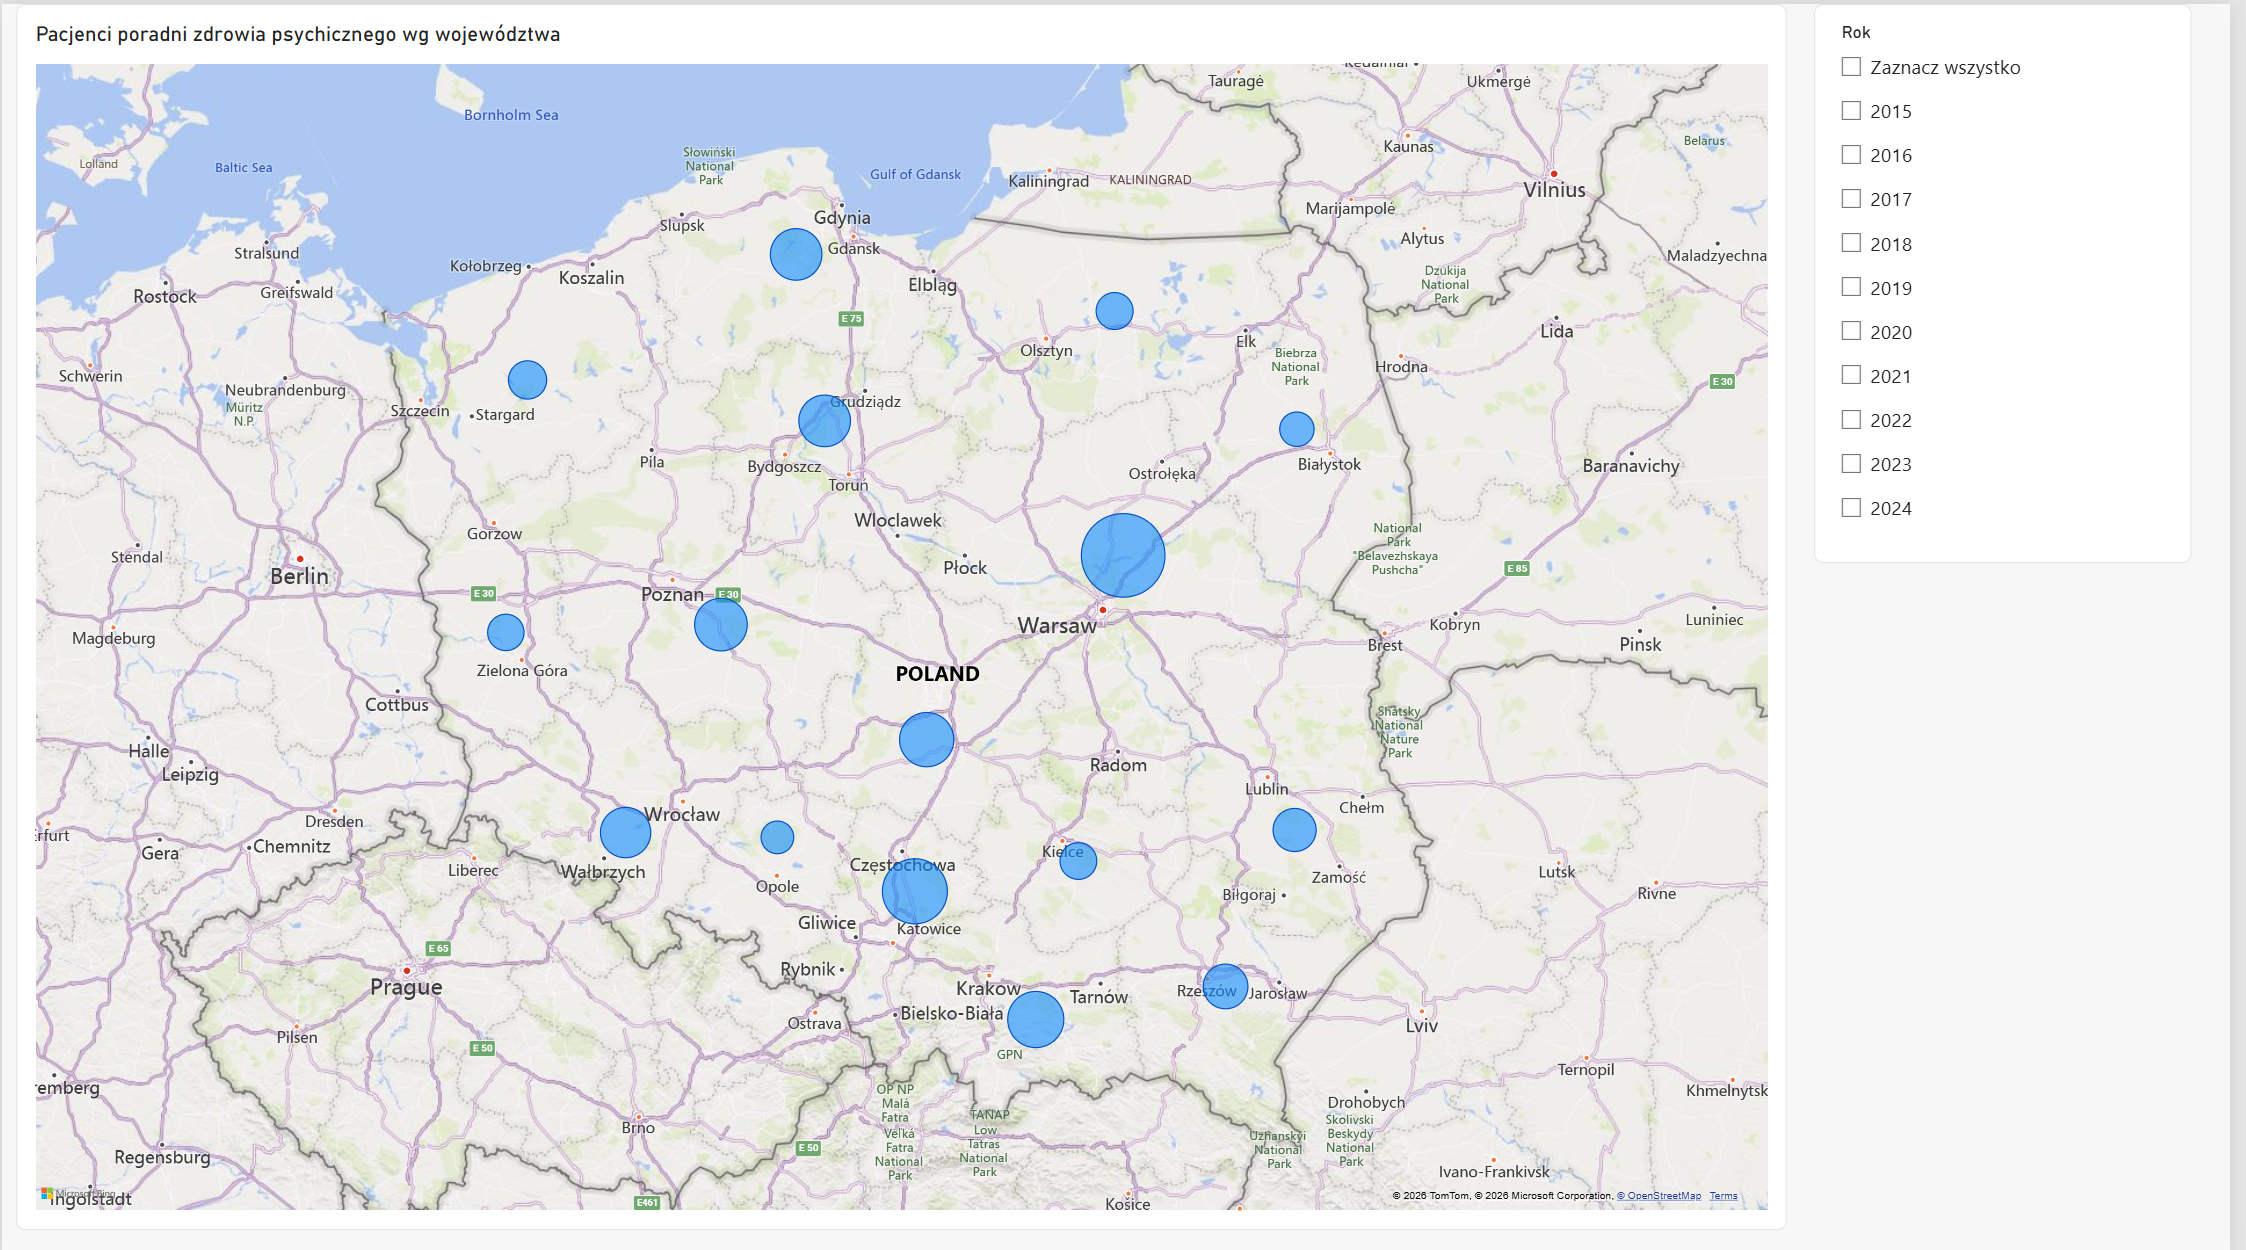

The page's visual inventory and layout, read from the dashboard file:
{"tool":"powerbi","page":{"name":"Mapa","canvas":[1920,1080],"ordinal":1},"visuals":[{"type":"map","title":"Pacjenci poradni zdrowia psychicznego wg województwa","fields":{"Category":["PacjenciPoradniZP.Województwo"],"Size":["Sum(PacjenciPoradniZP.Liczba leczonych)"]},"box":[12.4,0,1526.5,1056.8],"z":0},{"type":"slicer","fields":{"Values":["ZdrowiePsychiczne.Rok"]},"box":[1561.5,0,325.5,482.1],"z":1}]}

Visuals, with their boxes in screenshot pixels (x1, y1, x2, y2), scaled from the page's 1920x1080 canvas onto the 2246x1250 screenshot:
"Pacjenci poradni zdrowia psychicznego wg województwa" map: [15,0,1800,1223]
slicer - ZdrowiePsychiczne.Rok: [1827,0,2207,558]
